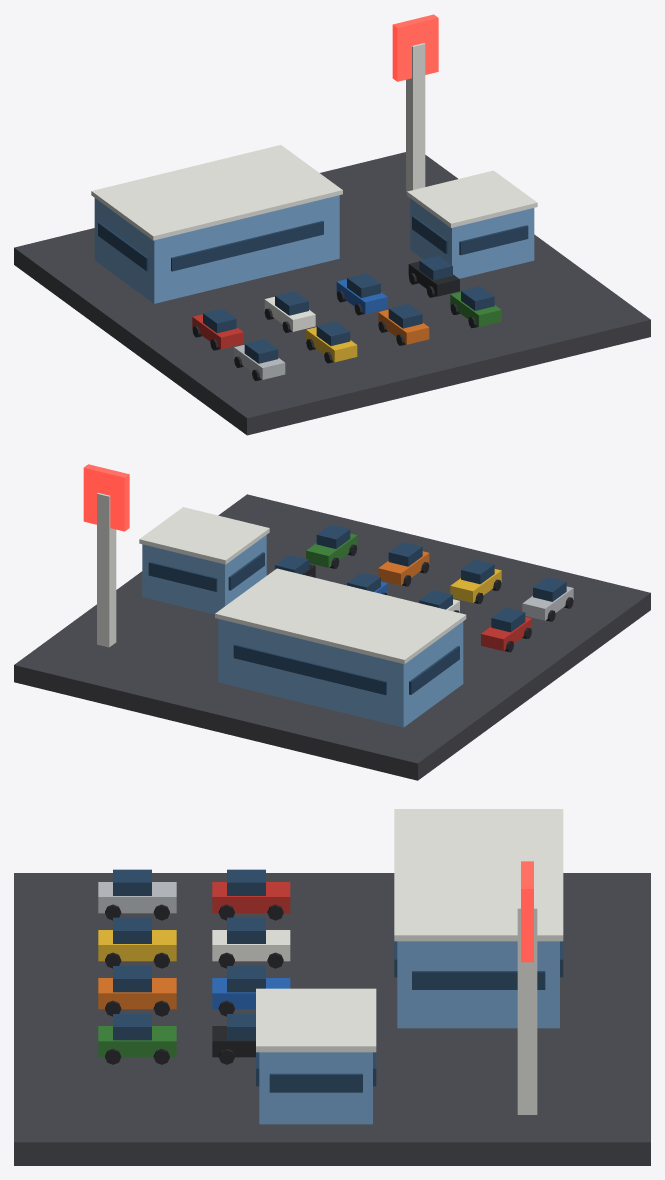
The model's file is auto_income_3.glb.
3 views of the same model, one above another, from view 1: azimuth 30°, elevation 25°; view 2: azimuth 150°, elevation 25°; view 3: azimuth 270°, elevation 25° (orthographic). The views are drawn at different scales.
Visible parts, largest first — view 1: auto_income_3; view 2: auto_income_3; view 3: auto_income_3.
Boxes of the visible parts, box(x1,y1,x2,y2) form: auto_income_3: box(14, 14, 650, 435); auto_income_3: box(14, 464, 650, 780); auto_income_3: box(14, 809, 650, 1165).
Size of the model in its own units: 1.96 by 0.88 by 1.96.
